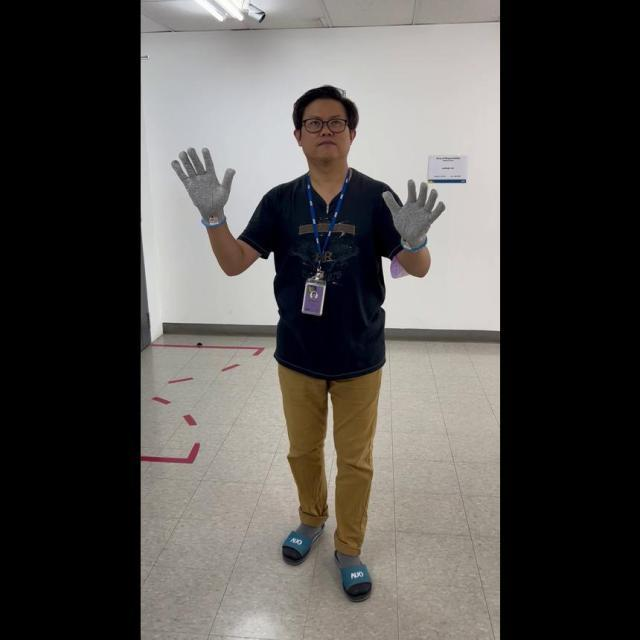gloved_hand: (170, 141, 236, 225), (380, 175, 444, 250)
